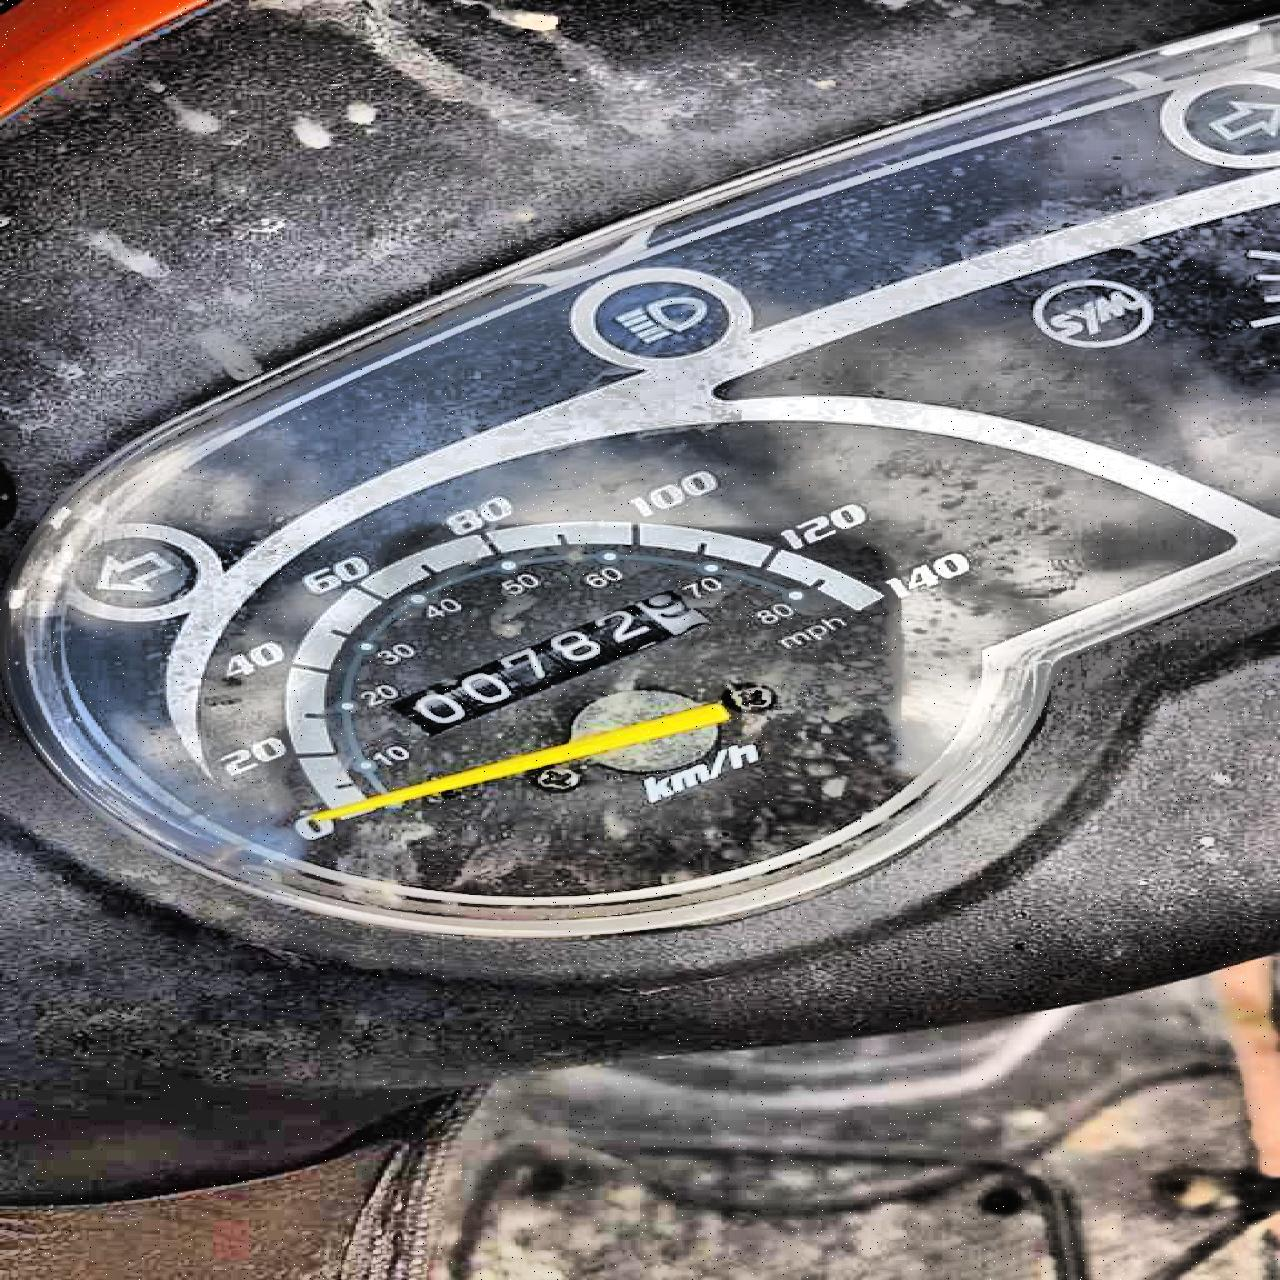0: (409, 692, 464, 723), (458, 672, 511, 702), (389, 642, 414, 658), (436, 598, 461, 612)
2: (588, 610, 649, 642)
3: (373, 648, 397, 663)
4: (422, 604, 444, 618)
7: (493, 647, 546, 678)
8: (546, 628, 600, 661)
9: (638, 588, 692, 618)
odometer: (384, 587, 712, 736)
